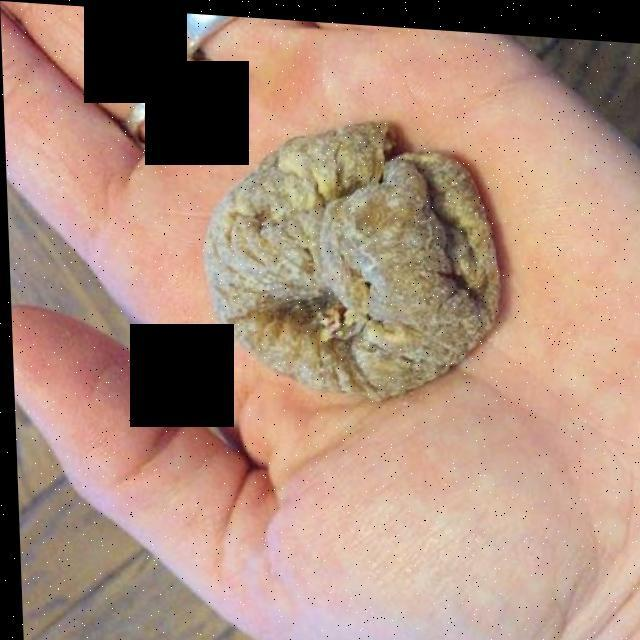fig-dried: (206, 121, 484, 378)
